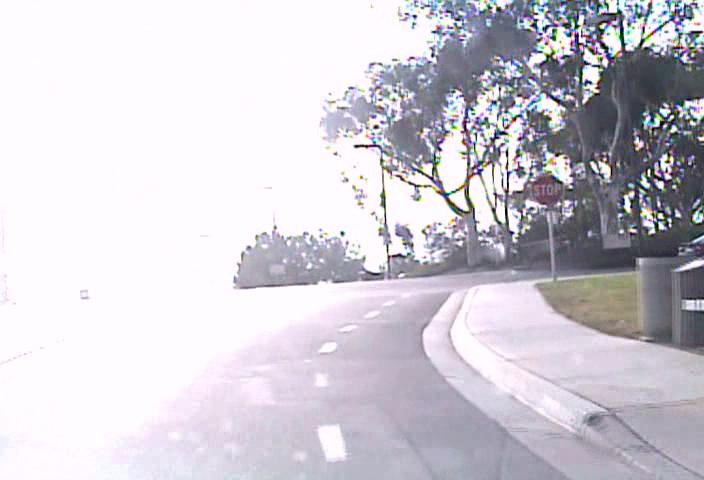stop: (530, 173, 563, 205)
